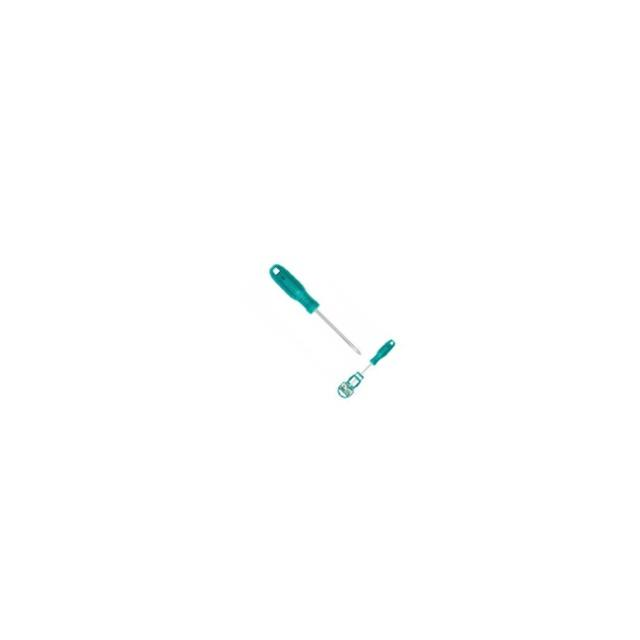screwdriver: (265, 258, 368, 360), (343, 336, 399, 392)
